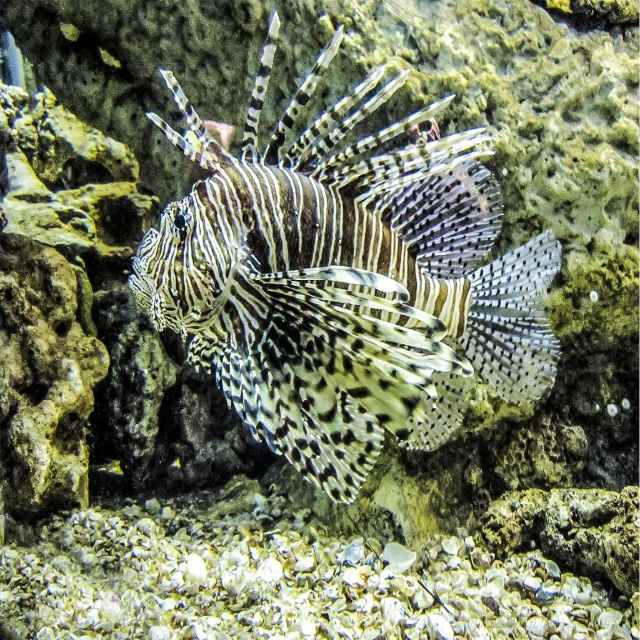Fish: (128, 9, 563, 505)
